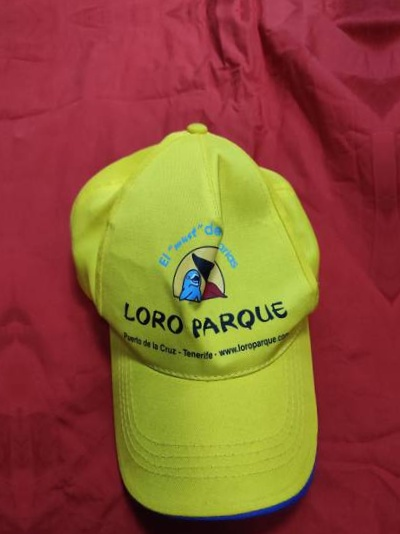Hat: (60, 89, 357, 534)
